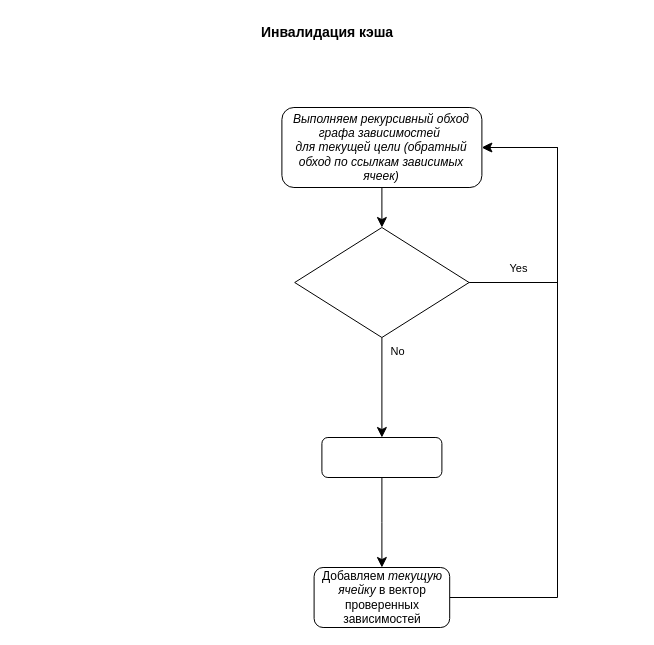
The diagram is 654 pixels wide and 645 high, and some of its shapes have lost their labels. Here are the shapes that lost their labels. From the top down, the centre of each, then its label:
pixel 381 282: Текущая ячейка проверялась на предыдущих итерациях
pixel 381 457: Очищаем кэш текущей ячейки
